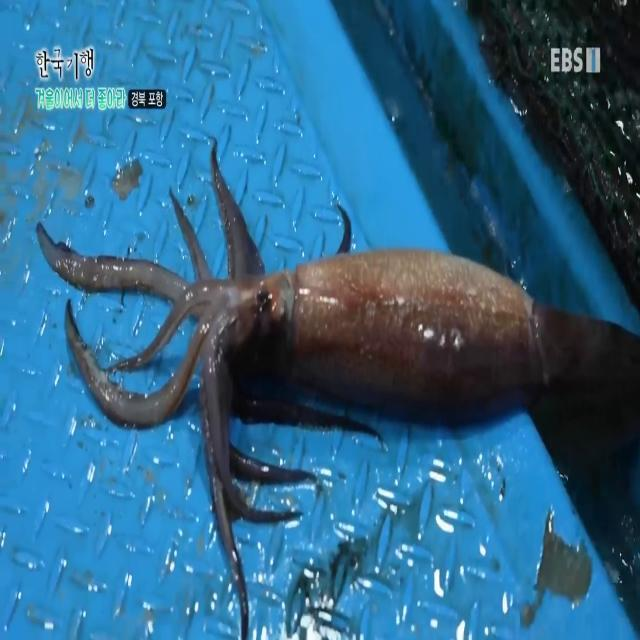squid: (34, 134, 534, 444)
